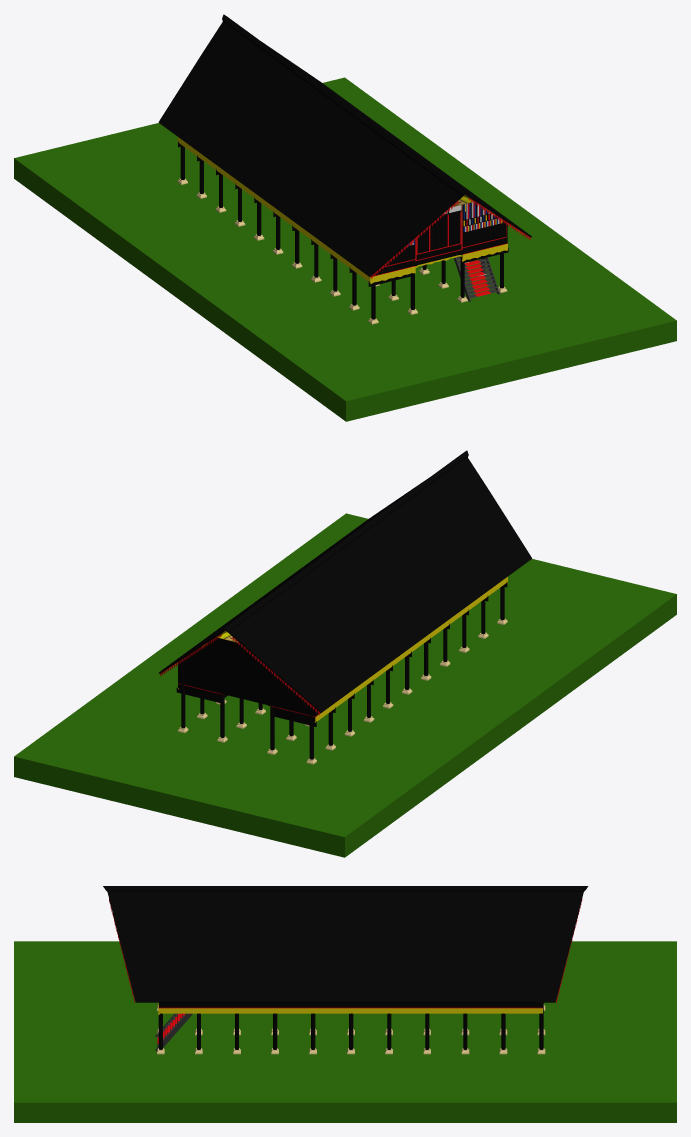
The model's file is FPRumahAdat.fbx.
3 views of the same model, one above another, from view 1: azimuth 30°, elevation 25°; view 2: azimuth 150°, elevation 25°; view 3: azimuth 270°, elevation 25° (orthographic).
Visible parts, largest first — view 1: Cube, Plane.001, Pillars, Plane, Plane.013, Plane.005, Plane.035, Plane.002; view 2: Cube, Plane.001, Plane, Pillars, Plane.005, Plane.007; view 3: Cube, Plane.001, Pillars, Plane.005, Plane, Plane.006, Plane.002.
Part boxes in pixels (left/top/right/bottom): Cube: left=14, top=77, right=676, bottom=421; Plane.001: left=158, top=14, right=531, bottom=276; Pillars: left=177, top=141, right=508, bottom=324; Plane: left=373, top=202, right=506, bottom=275; Plane.013: left=386, top=216, right=505, bottom=264; Plane.005: left=177, top=137, right=507, bottom=282; Plane.035: left=370, top=244, right=507, bottom=284; Plane.002: left=453, top=256, right=499, bottom=301; Cube: left=14, top=513, right=676, bottom=857; Plane.001: left=159, top=450, right=531, bottom=712; Plane: left=178, top=637, right=319, bottom=716; Pillars: left=176, top=582, right=507, bottom=764; Plane.005: left=178, top=576, right=507, bottom=722; Plane.007: left=178, top=684, right=315, bottom=721; Cube: left=14, top=941, right=676, bottom=1122; Plane.001: left=103, top=886, right=588, bottom=1002; Pillars: left=157, top=1002, right=545, bottom=1054; Plane.005: left=158, top=1008, right=542, bottom=1013; Plane: left=158, top=1002, right=542, bottom=1007; Plane.006: left=159, top=1007, right=542, bottom=1008; Plane.002: left=155, top=1013, right=192, bottom=1050.
Bounding box in the file's own units: 3376 × 1527 × 5870.
15 materials, 2 textured.
